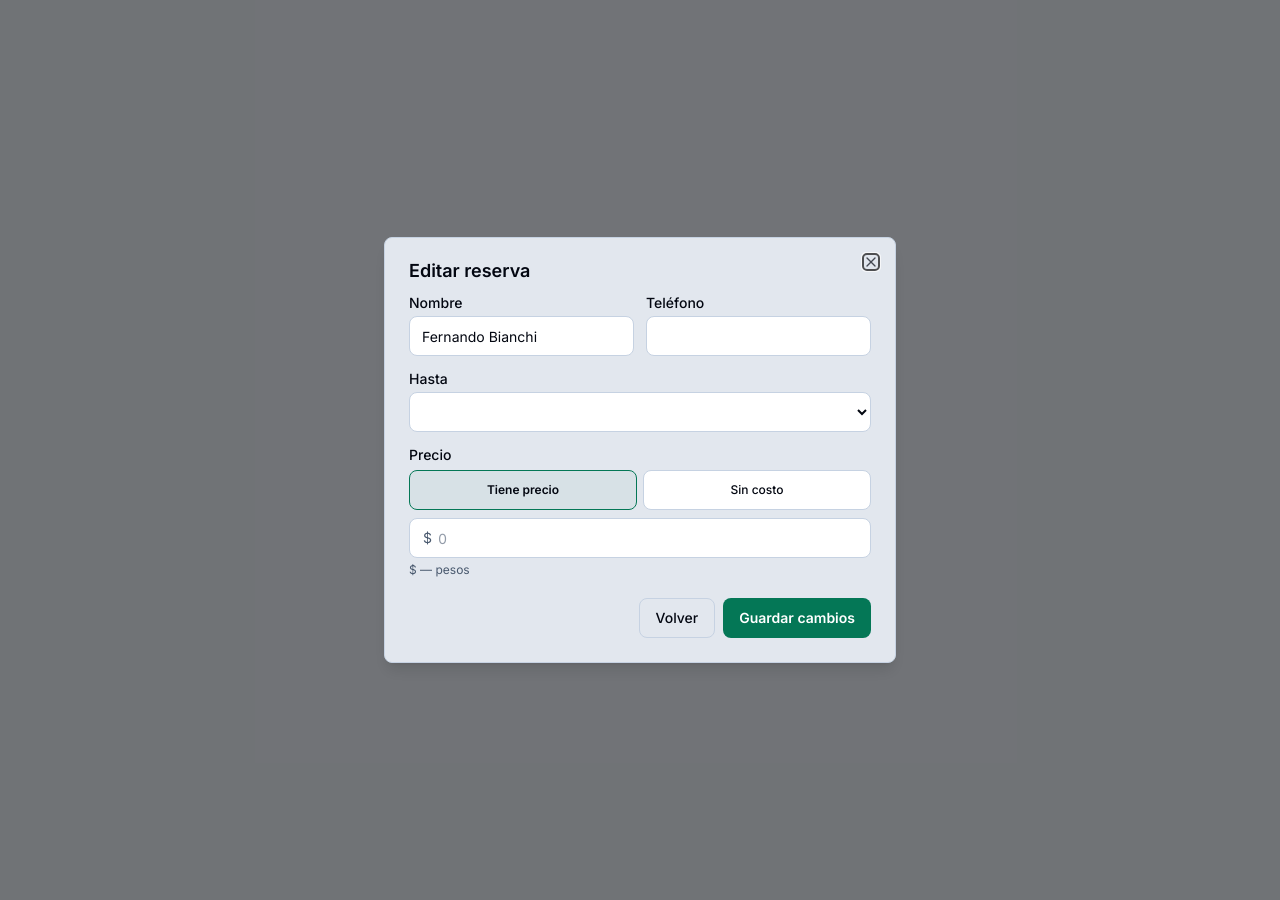
Test case: BookingEditDialog › muestra el error del server sin cerrar el diálogo
The width and height of the screenshot is (1280, 900).
Click the button "Guardar cambios" at coordinates (797, 618), box [723,598,871,638]
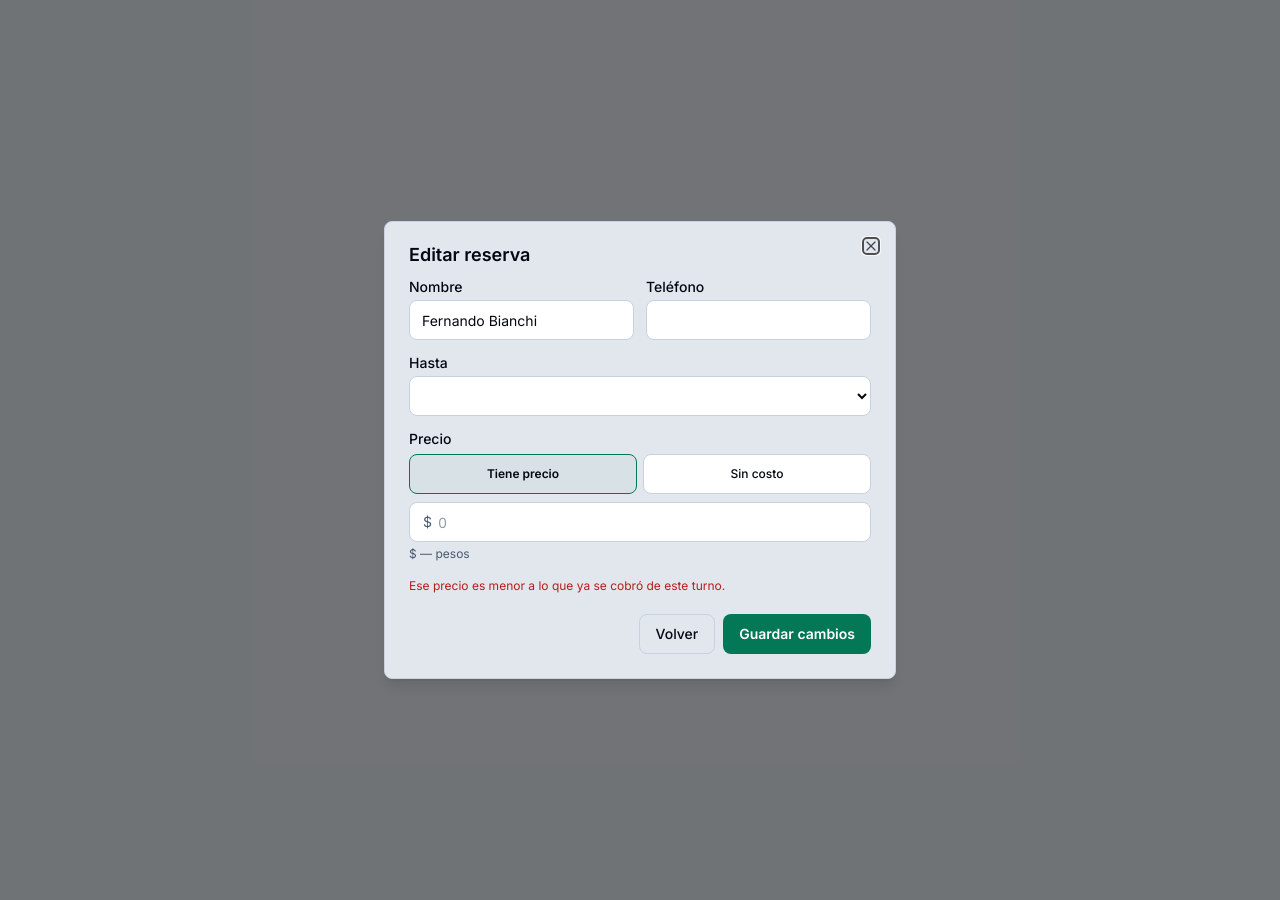
Result: the message reads "Ese precio es menor a lo que ya se cobró de este turno." at [409,578,725,593]
